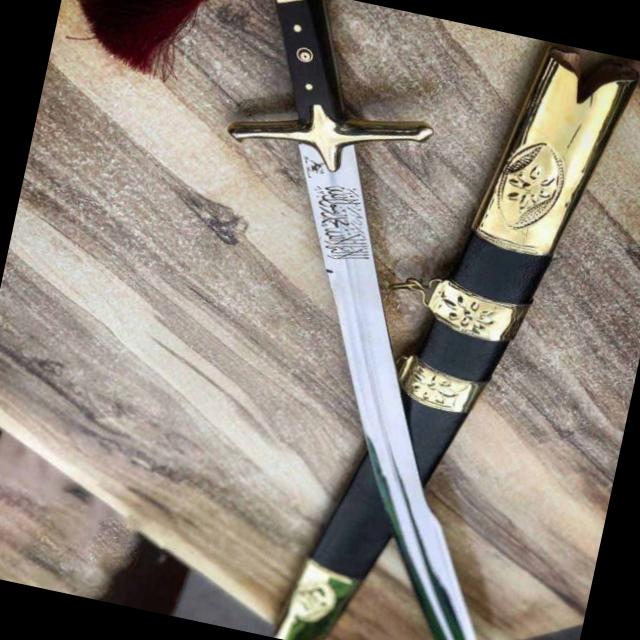Weapon: (120, 0, 624, 640)
